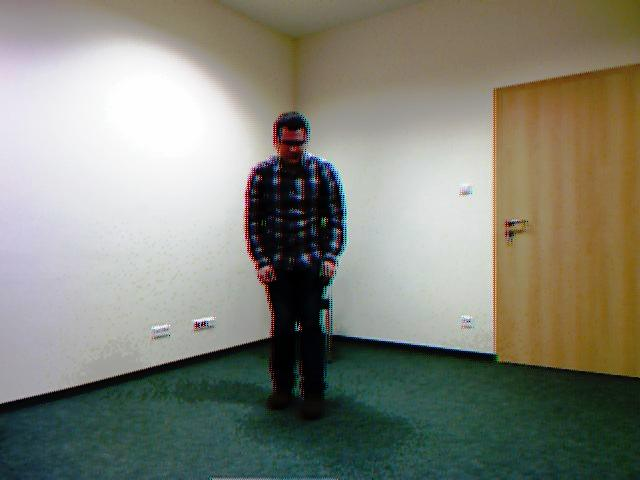standing: (239, 99, 350, 428)
